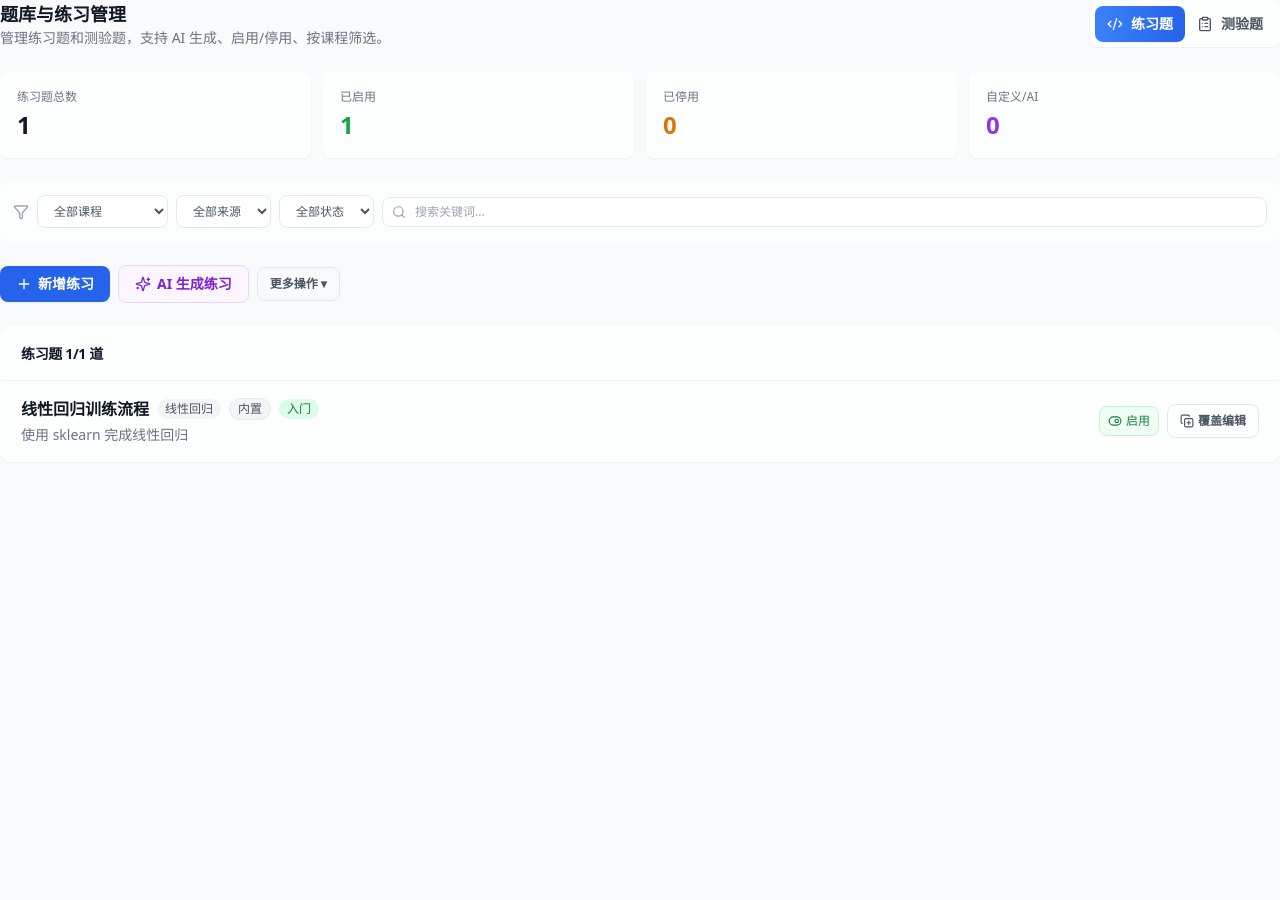
Test case: AdminQuestionPanel › 新增练习题 › 点击弹窗背景或取消按钮关闭表单
The width and height of the screenshot is (1280, 900).
Click the button "新增练习": click(55, 284) [0,266,110,302]
(page scrolled)
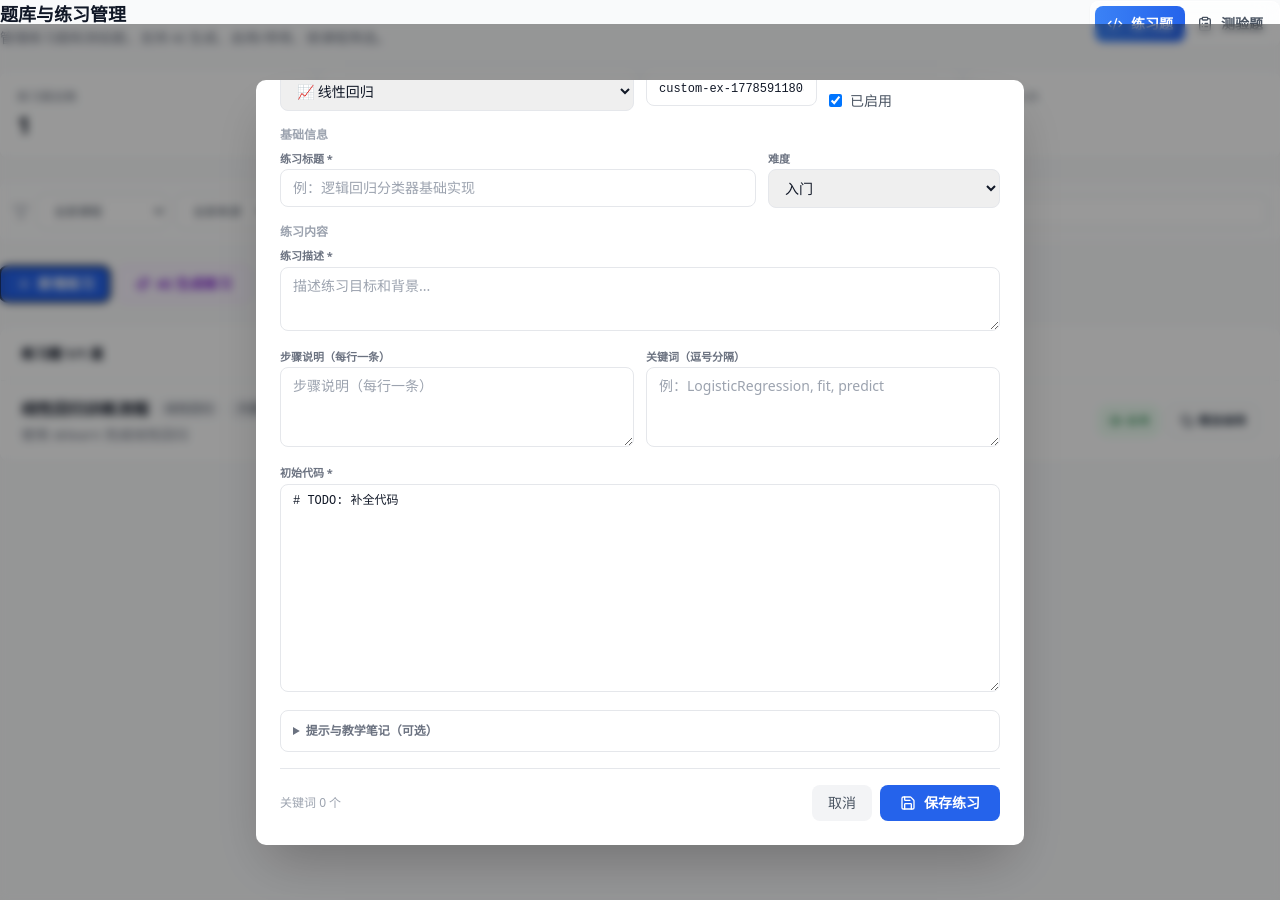
Now the button "保存练习" is shown, box [880,784,1000,820]
Click the button "取消": click(842, 802) [812,784,872,820]
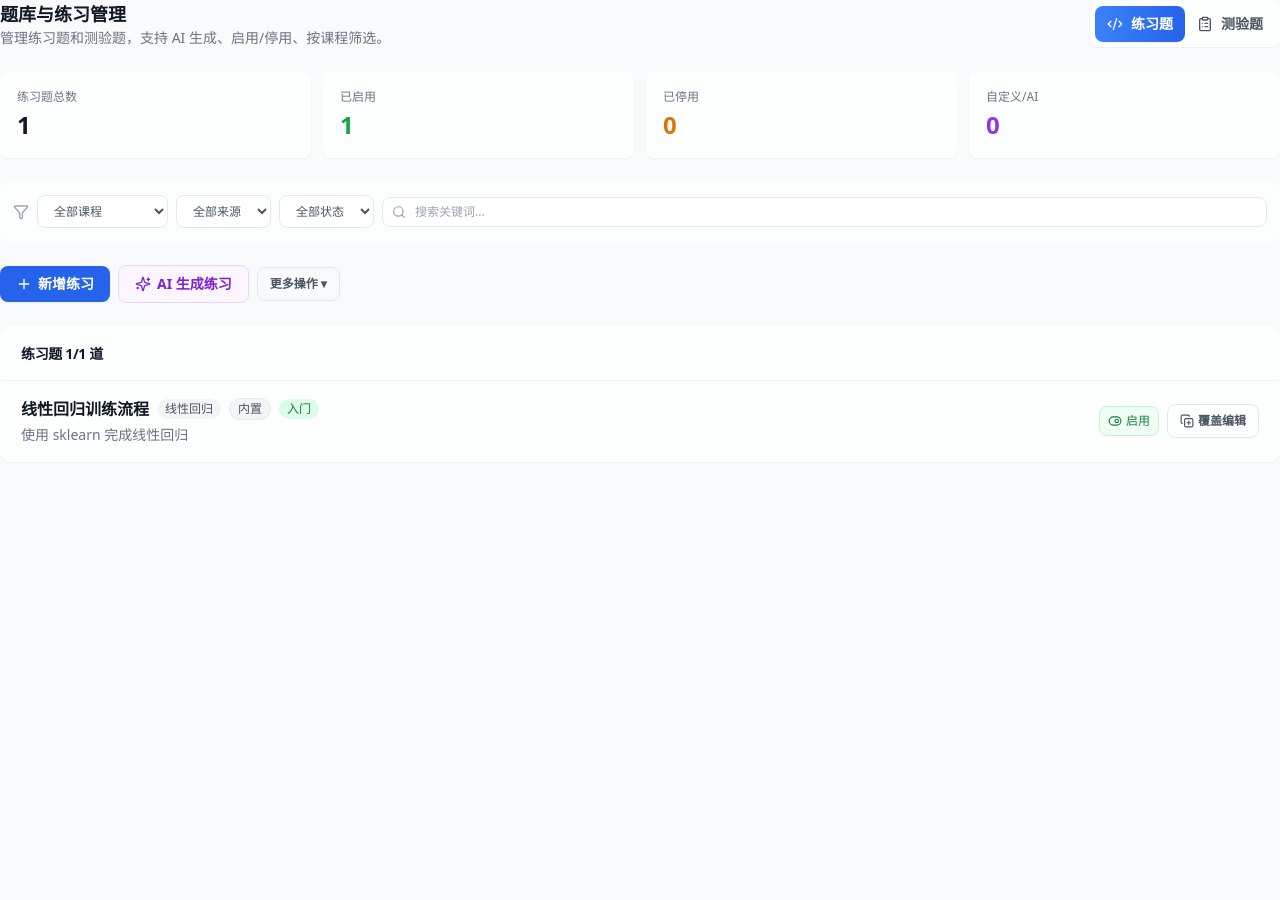
Now the button "保存练习" is gone
